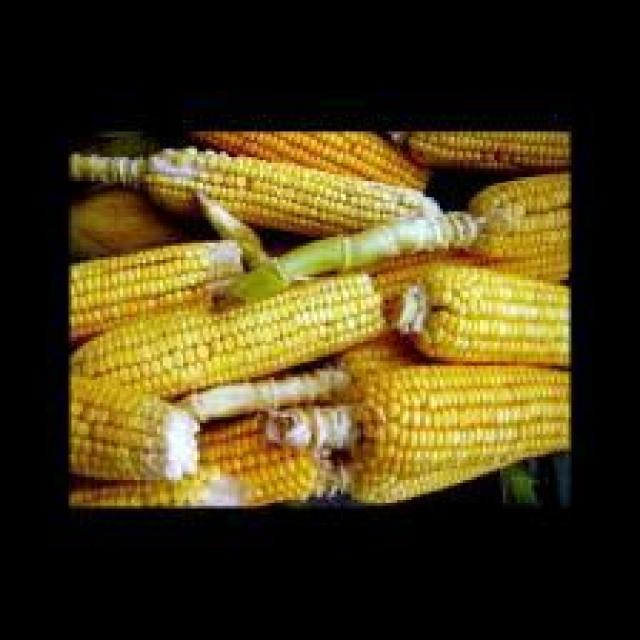corn: (71, 134, 566, 511)
